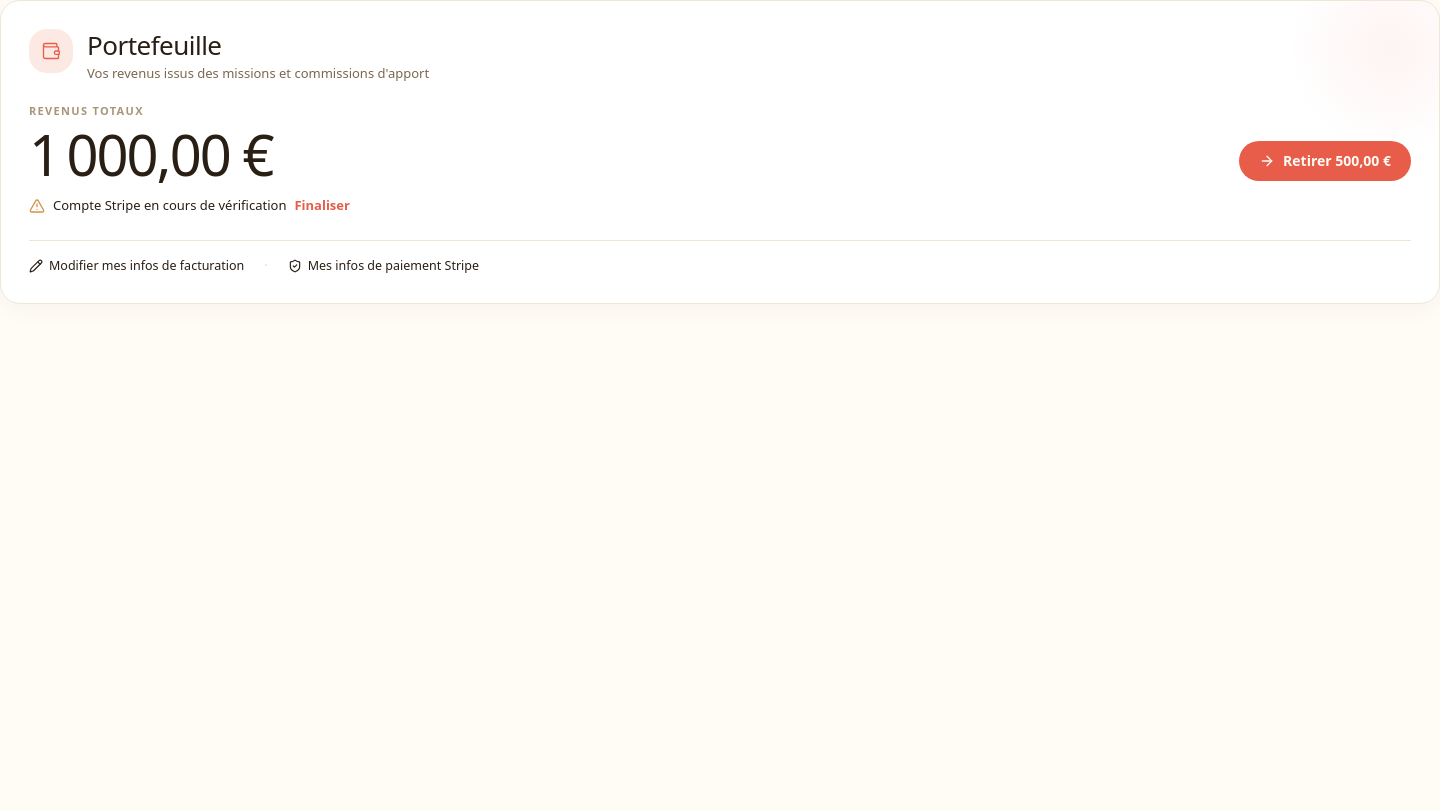
Test: WalletPayoutSection — KYC pre-flight › opens the KYC modal when payouts_enabled is false (skips request)
What coordinates should you click on to do the following:
click the button "Retirer 500,00 €"
I would click on:
 (1325, 161)
Its box is [1239,141,1411,181].
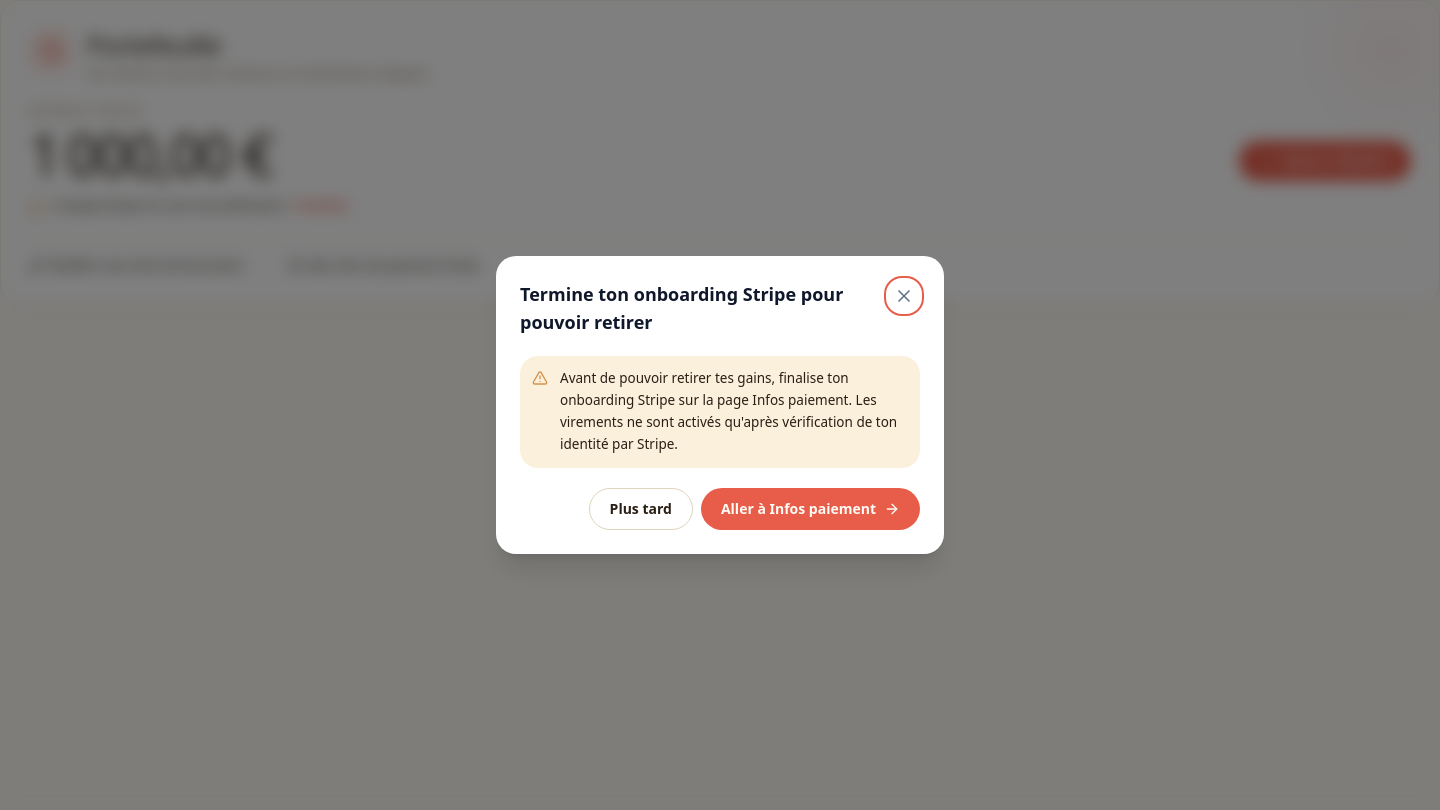
expect the heading "Termine ton onboarding Stripe pour pouvoir retirer" is shown: met, box [520,280,876,336]
